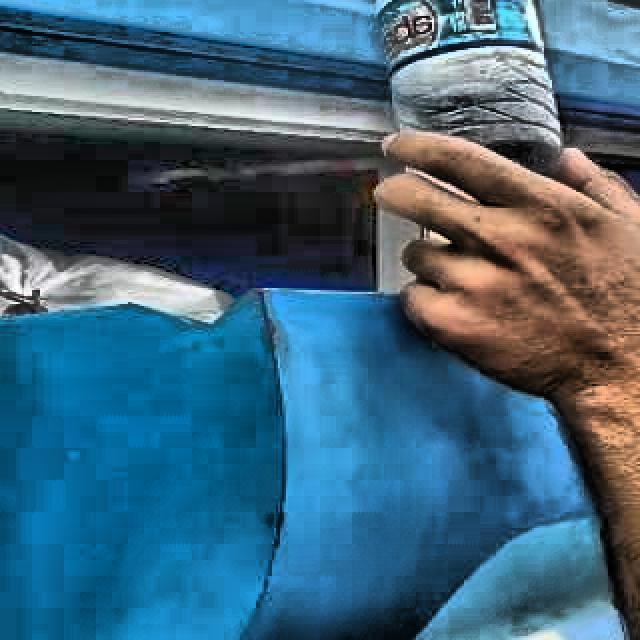plastic: (376, 0, 566, 177)
